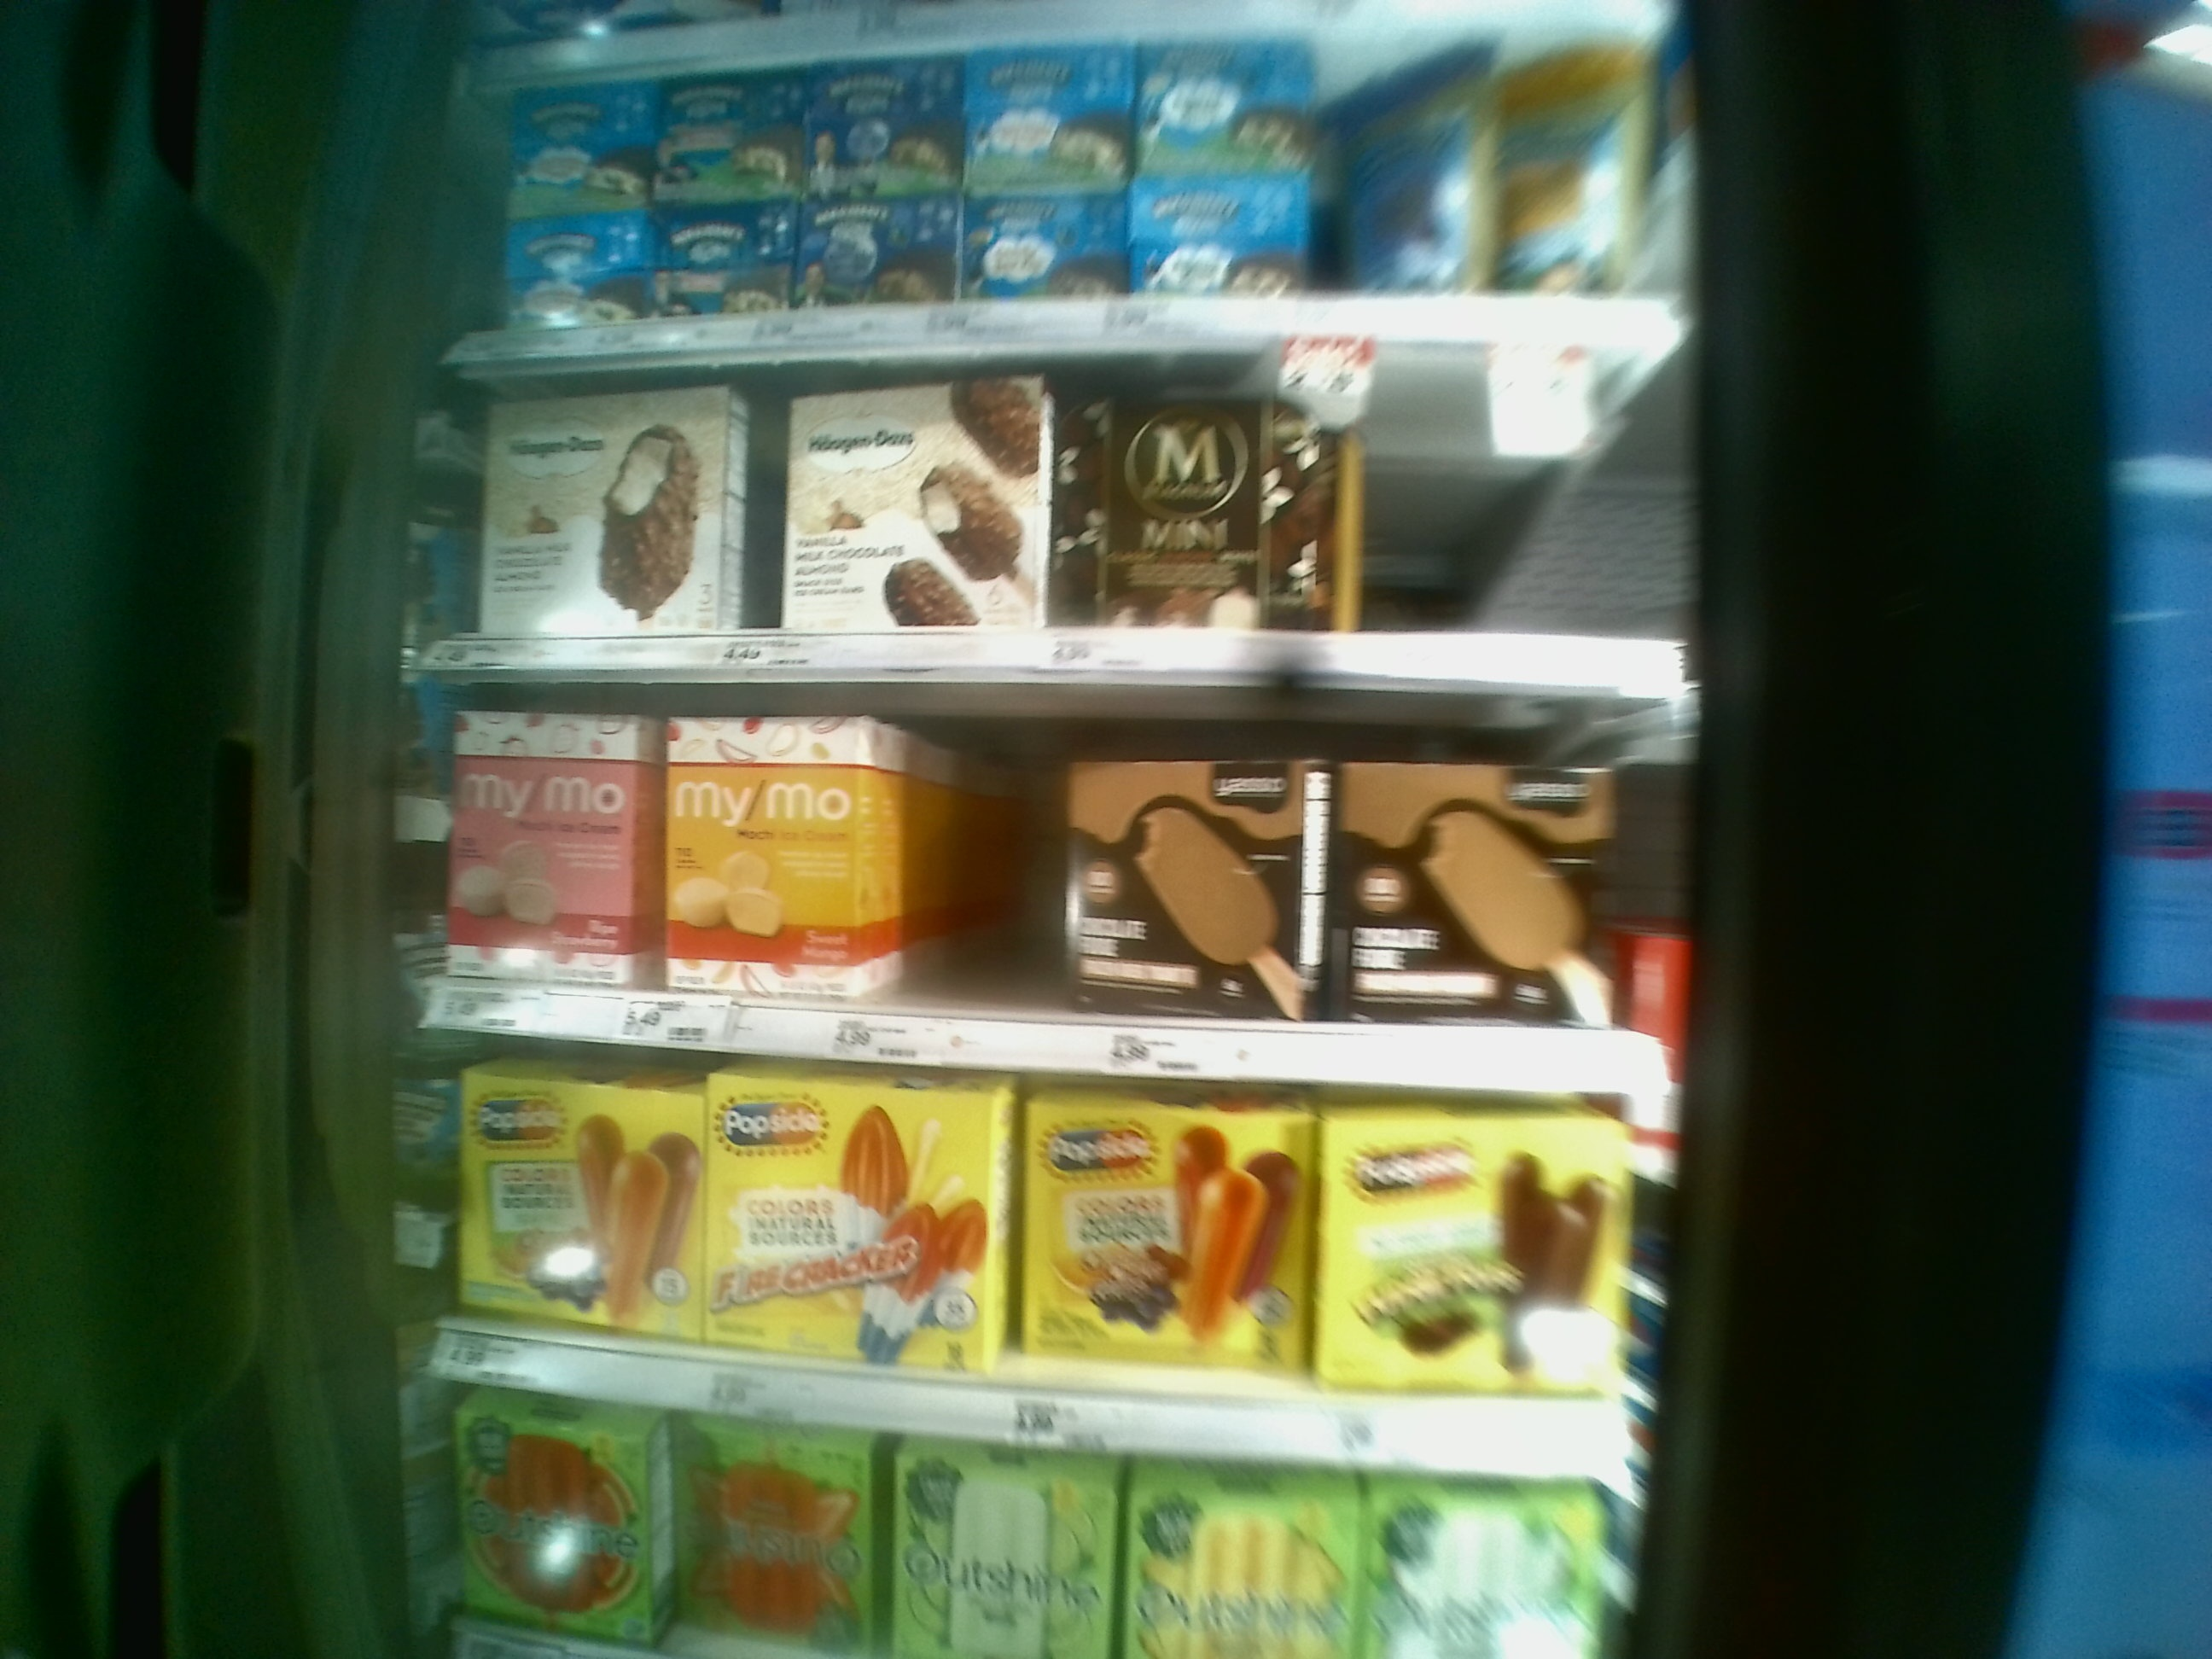ice-cream-shelf: (427, 676, 1676, 1087)
